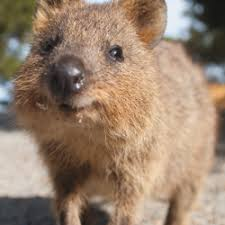quokka: (8, 1, 195, 222)
